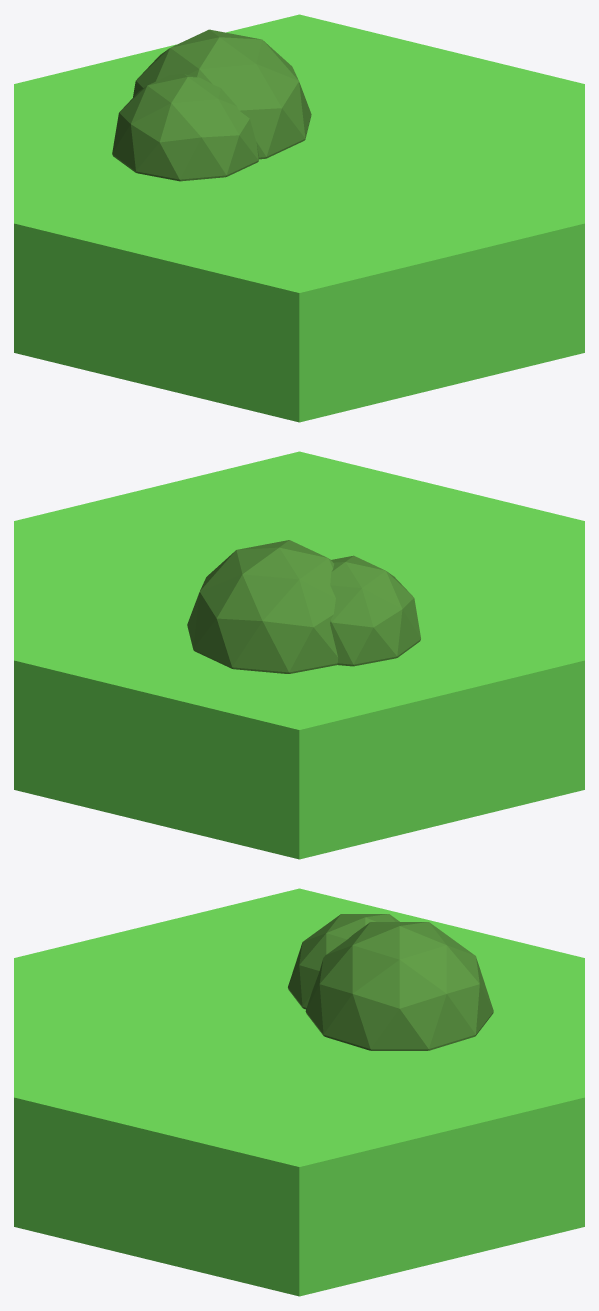
File: plains.glb
3 views of the same model, one above another, from view 1: azimuth 30°, elevation 25°; view 2: azimuth 150°, elevation 25°; view 3: azimuth 270°, elevation 25° (orthographic).
Parts seen in each view (by area): view 1: Icosphere.001; view 2: Icosphere.001; view 3: Icosphere.001.
Boxes of the visible parts, x1,y1,x2,y2 form: Icosphere.001: (14, 14, 584, 422); Icosphere.001: (14, 451, 584, 859); Icosphere.001: (14, 888, 584, 1296).
Bounding box in the file's own units: 1.15 × 0.4185 × 1.
